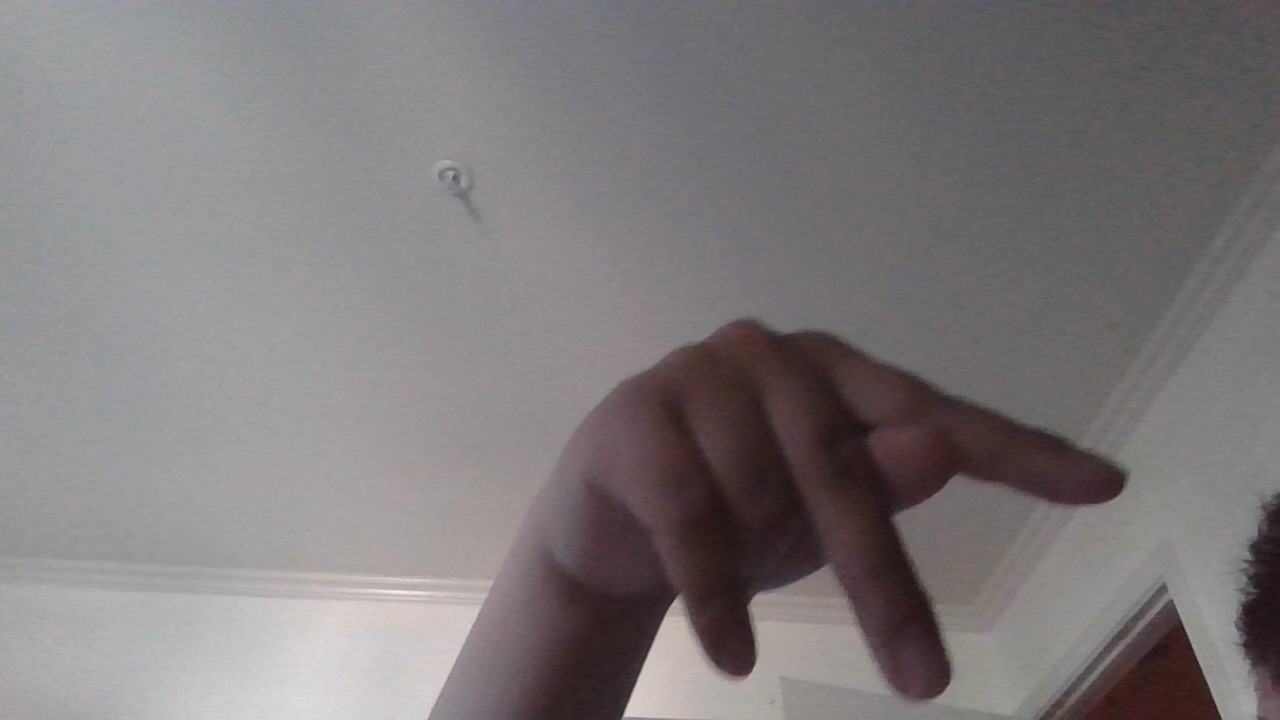p: (503, 298, 1199, 720)
